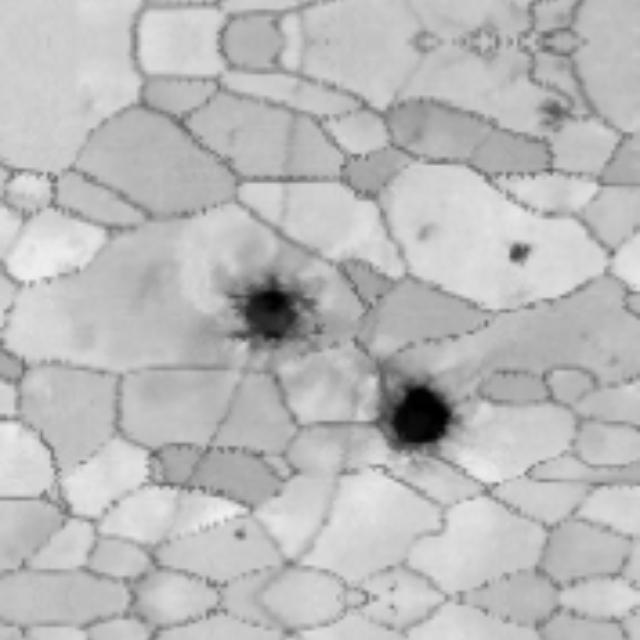good_void: (211, 269, 317, 350), (382, 368, 457, 449), (535, 88, 598, 136), (504, 231, 551, 270), (414, 215, 444, 247), (224, 523, 250, 547)
